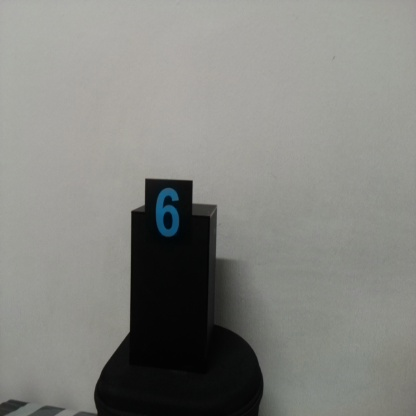id_6: (148, 180, 193, 256)
